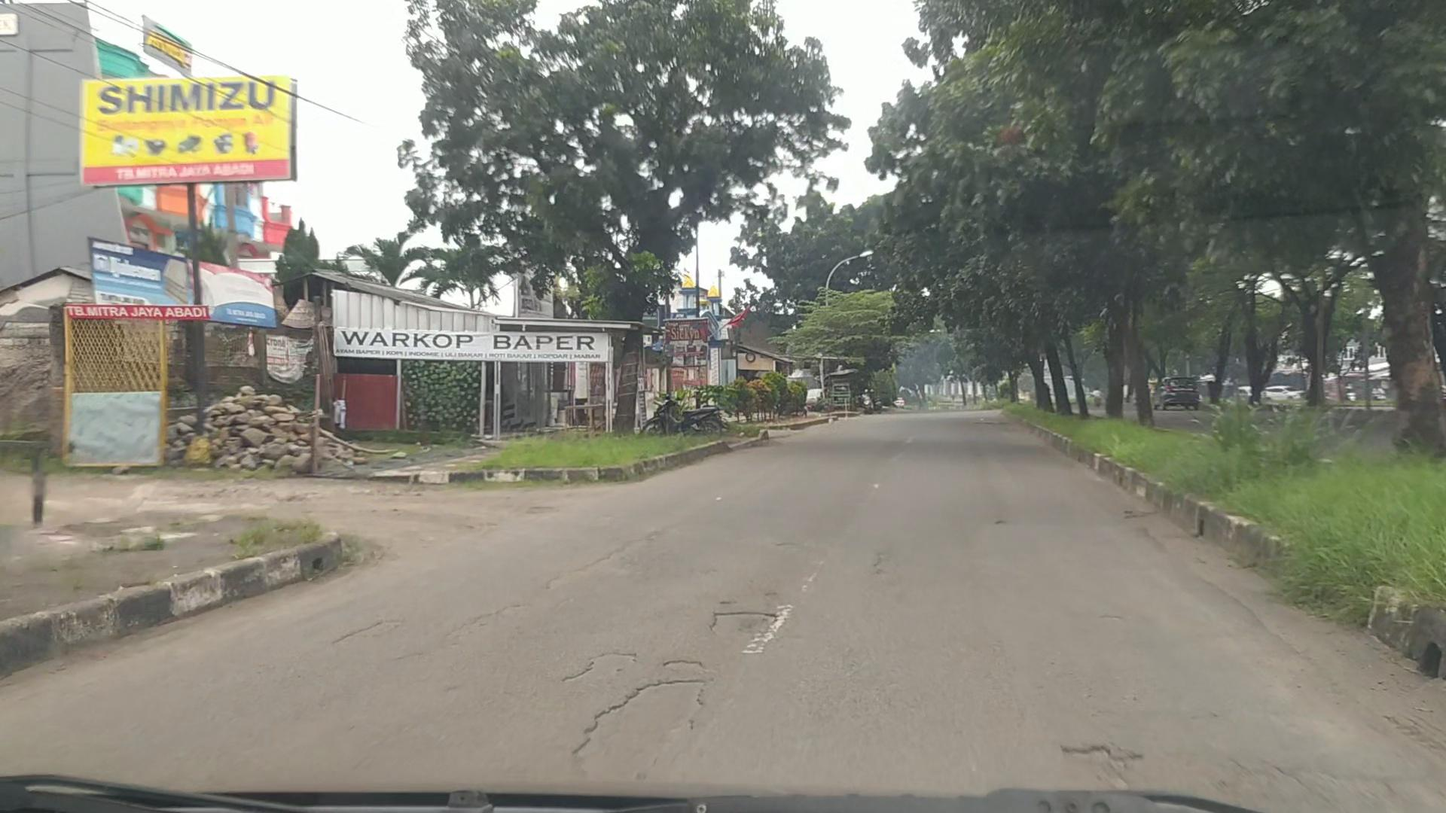pothole: (572, 678, 707, 785), (1056, 743, 1141, 792), (558, 650, 640, 684), (707, 609, 779, 641), (663, 659, 704, 671)
